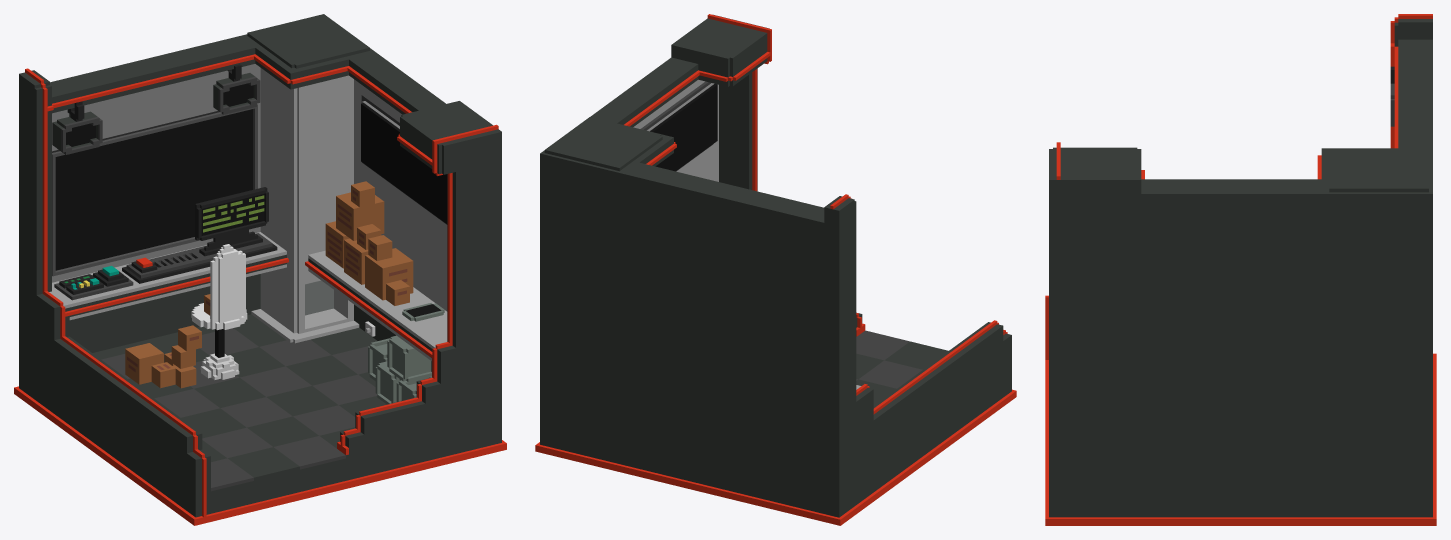
Rendered from Room_1.obj.
3 renders of one model, left to right at view 1: azimuth 30°, elevation 25°; view 2: azimuth 150°, elevation 25°; view 3: azimuth 270°, elevation 25°, orthographic. The views are drawn at different scales.
Size of the model in its own units: 102 by 101 by 102.
